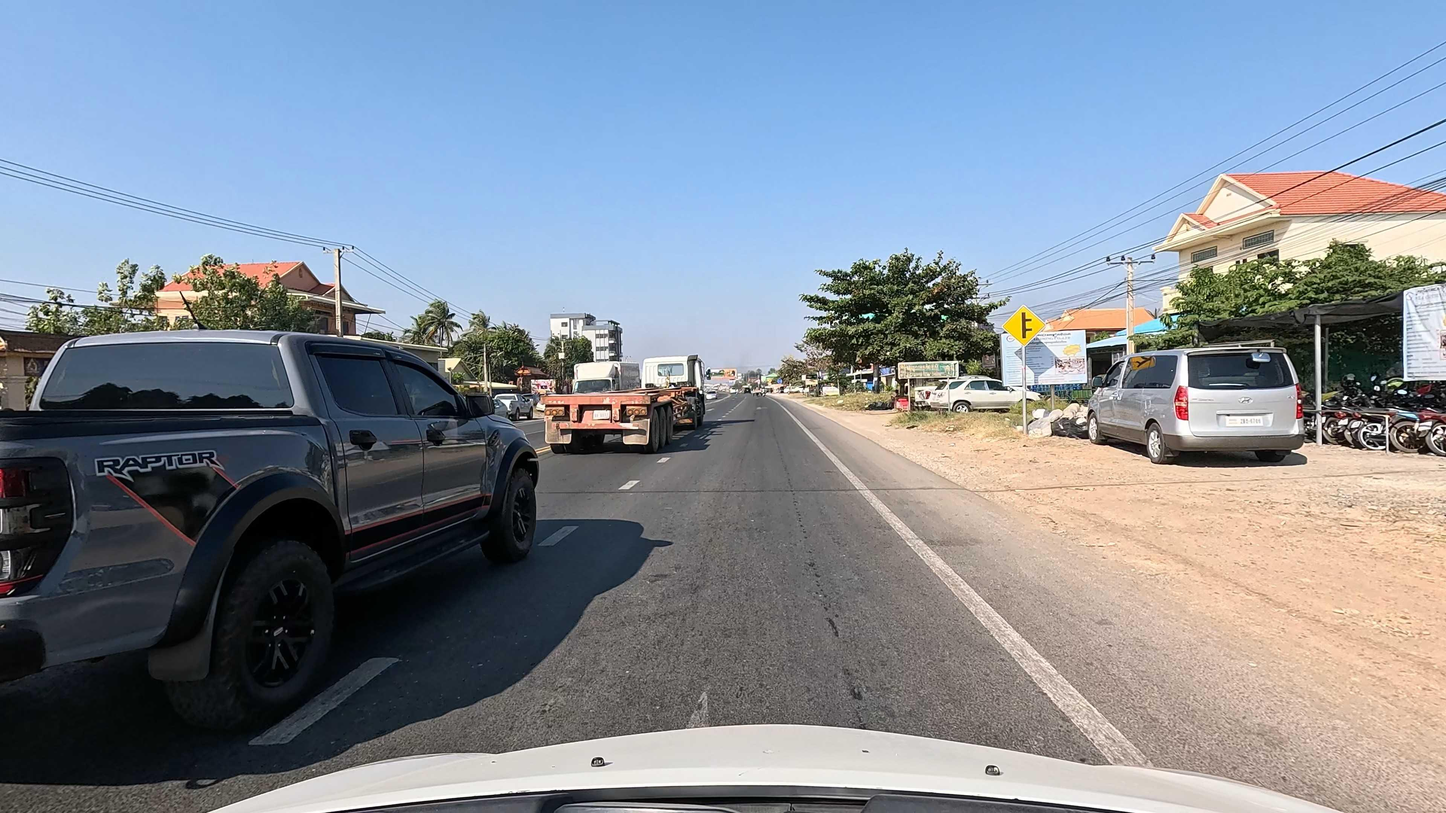side_road_junctions_right: (1002, 304, 1047, 345)
